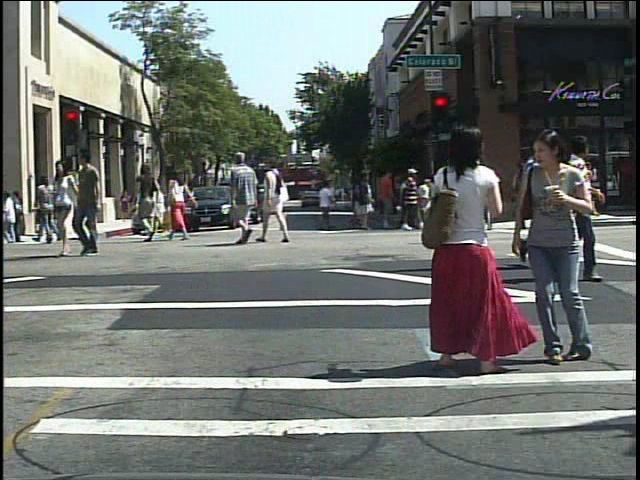person: (411, 123, 513, 378), (519, 121, 602, 367), (439, 129, 502, 276), (511, 132, 571, 276), (561, 128, 612, 282), (458, 140, 506, 247), (74, 148, 109, 259), (223, 148, 262, 247), (46, 159, 84, 260), (261, 151, 291, 247), (167, 166, 198, 241), (135, 164, 162, 243), (73, 169, 99, 246), (396, 166, 424, 235), (483, 164, 509, 233), (35, 173, 59, 246)
